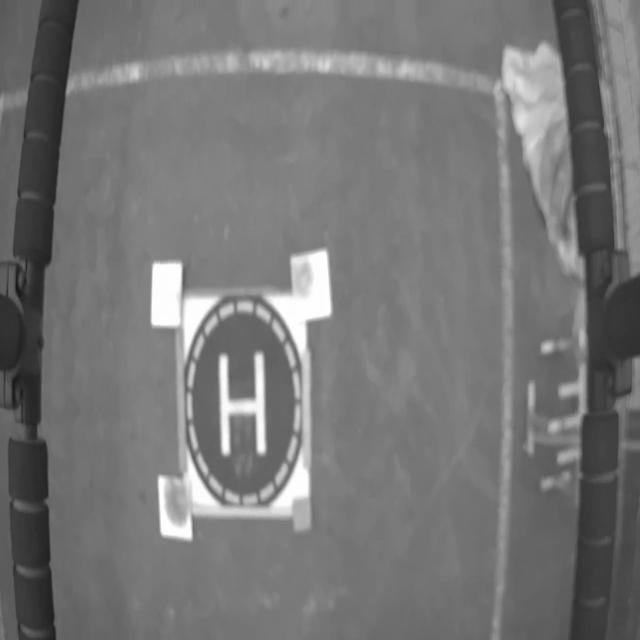Helipad: (218, 353, 266, 456)
